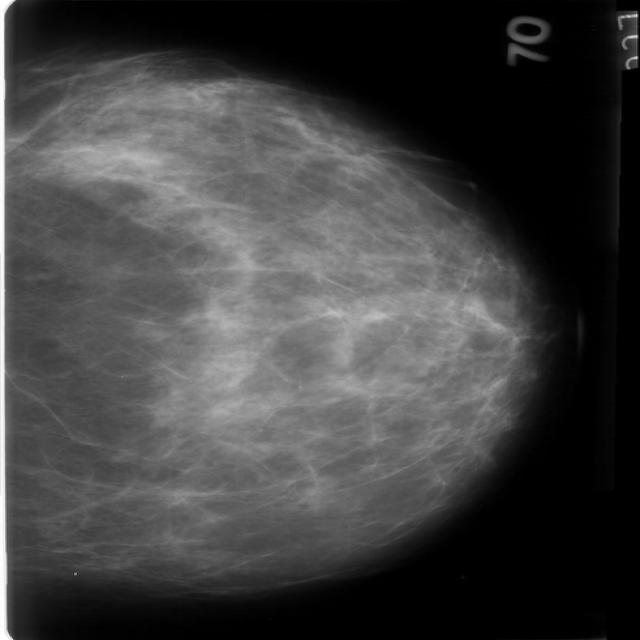tumour: (324, 334, 354, 368)
